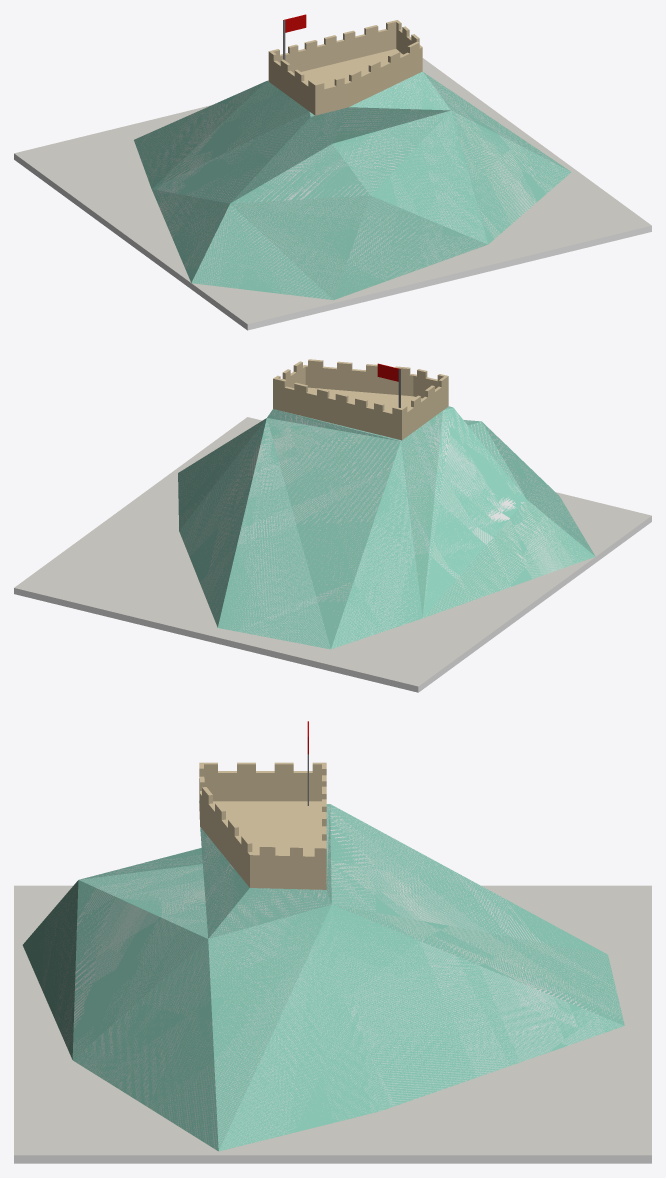
Rendered from ankara_kalesi.dae.
3 views of the same model, one above another, from view 1: azimuth 30°, elevation 25°; view 2: azimuth 150°, elevation 25°; view 3: azimuth 270°, elevation 25° (orthographic). The views are drawn at different scales.
Visible parts, largest first — view 1: group_0 (×3), SketchUp (×2); view 2: group_0 (×4), SketchUp (×2); view 3: group_0 (×4), SketchUp.
Part boxes in pixels (x1,y1,x2,y2): group_0 (×3): (134,20,571,300); SketchUp (×2): (14,58,651,330); group_0 (×4): (14,359,595,692); SketchUp (×2): (14,417,651,692); group_0 (×4): (14,762,651,1163); SketchUp: (14,885,651,1155).
Bounding box in the file's own units: 402 × 402 × 186.
Materials: 7 (6 with a texture image).
